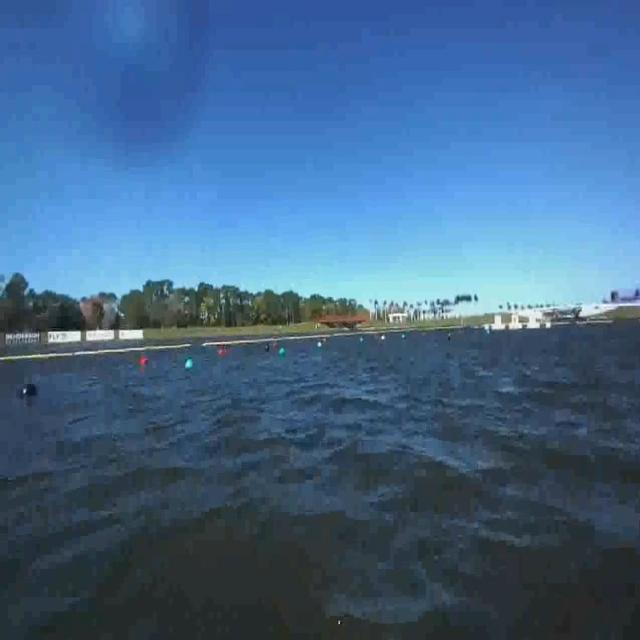black-buoy: (19, 382, 40, 402)
